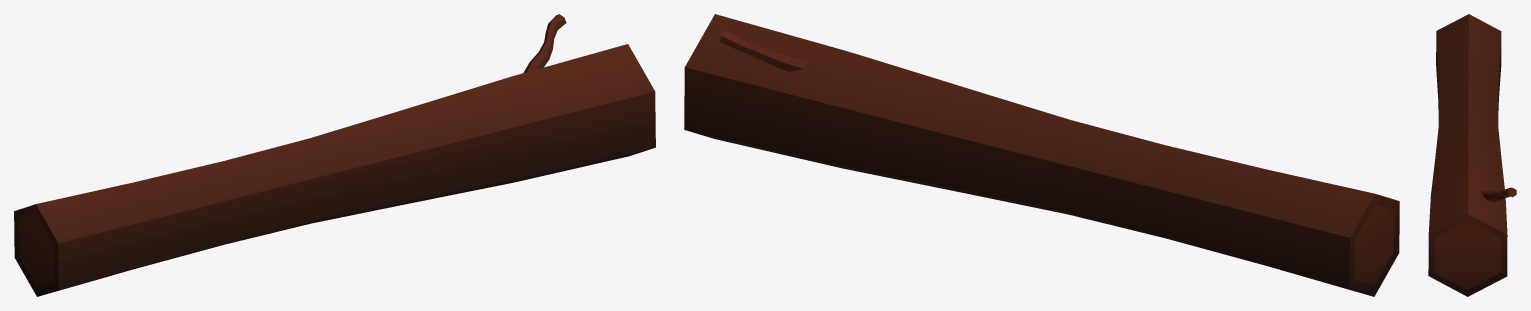
Rendered from FBX_TreeDead.fbx.
3 views of the same model, side by side, from view 1: azimuth 30°, elevation 25°; view 2: azimuth 150°, elevation 25°; view 3: azimuth 270°, elevation 25° (orthographic). The views are drawn at different scales.
Parts seen in each view (by area): view 1: Dead_tree; view 2: Dead_tree; view 3: Dead_tree.
Boxes of the visible parts, x1,y1,x2,y2 form: Dead_tree: (14,14,655,296); Dead_tree: (684,14,1399,296); Dead_tree: (1428,14,1516,296).
Bounding box in the file's own units: 1.78 × 0.3727 × 0.3126.
